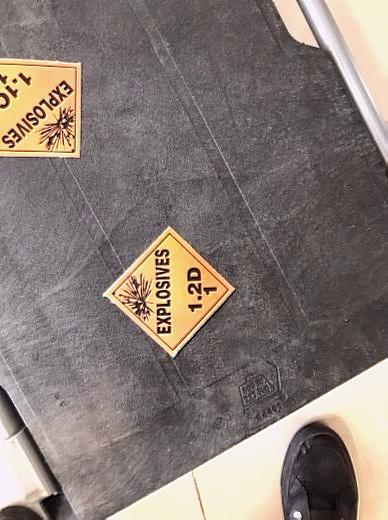explosive: (103, 226, 234, 357), (1, 56, 82, 160)
